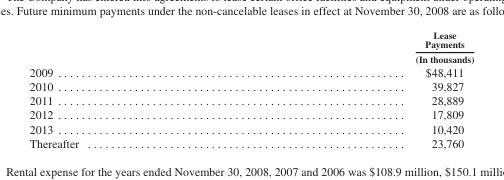table: (28, 29, 473, 149)
table column: (246, 29, 473, 149), (28, 29, 246, 149)
table column header: (28, 29, 473, 64)
table row: (28, 29, 473, 64), (28, 78, 473, 93), (28, 64, 473, 78), (28, 93, 473, 107), (28, 107, 473, 121), (28, 121, 473, 135), (28, 135, 473, 149)
